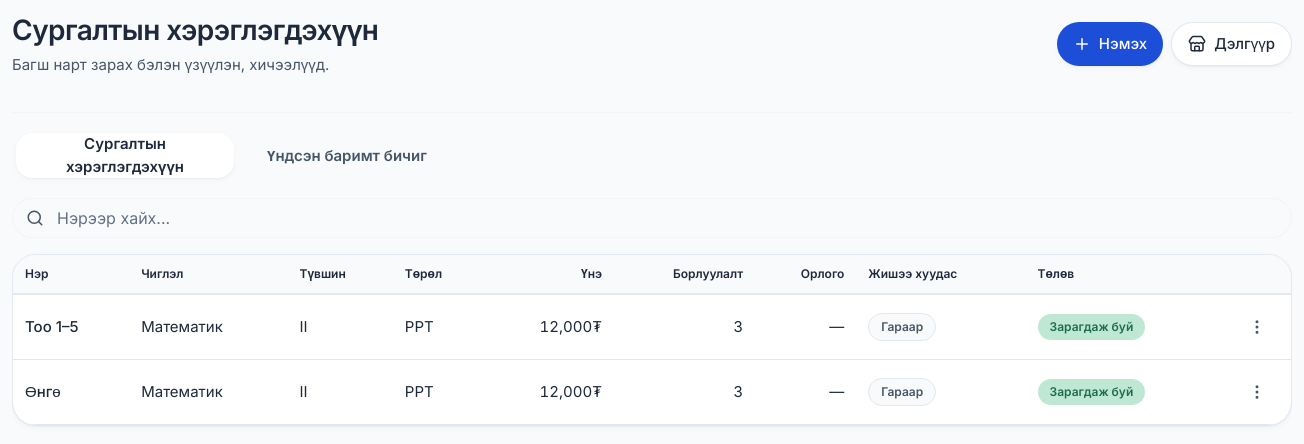
Test: the platform's teaching materials › finds a material by its name
In the search field named "Хэрэглэгдэхүүн хайх": (652, 218) [12,198,1292,238], type "өнг"
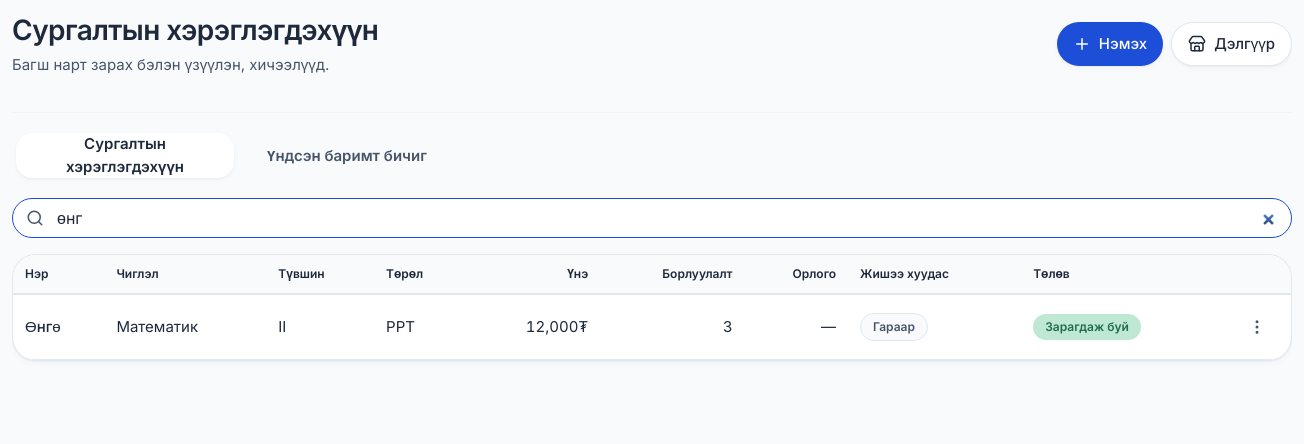
Check: the text "Өнгө" is shown, box [13,295,104,360]
Check: the text "Тоо 1–5" is gone
